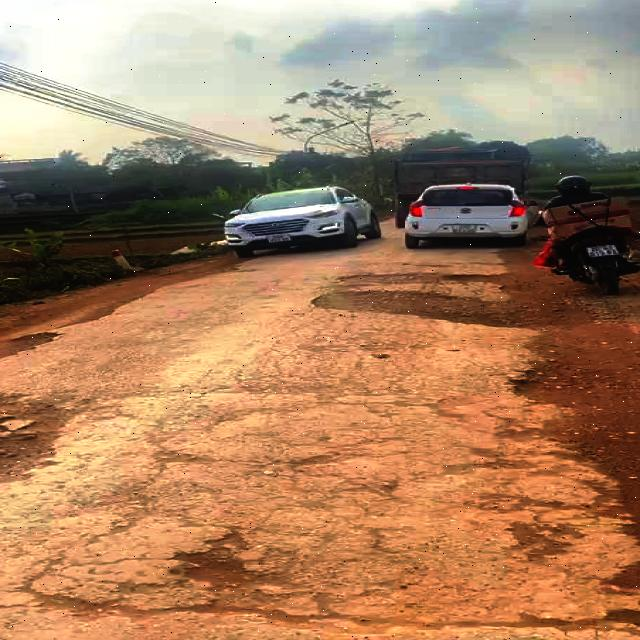pothole: (158, 528, 306, 628), (312, 271, 546, 331), (0, 388, 75, 498), (506, 350, 616, 412), (500, 511, 582, 566), (0, 328, 68, 365)
